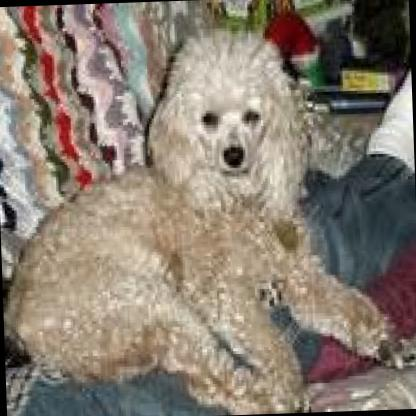miniature_poodle: (0, 4, 416, 416)
